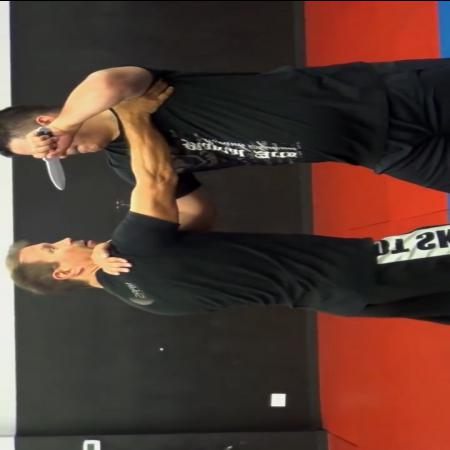long weapon: (22, 123, 70, 193)
